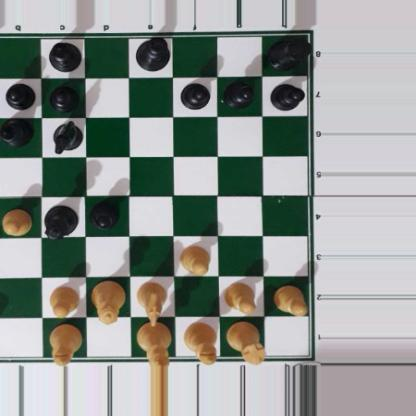black-bishop: (47, 40, 82, 70), (0, 118, 33, 147)
black-king: (136, 35, 171, 72)
black-knight: (51, 120, 81, 152)
black-pawn: (269, 81, 303, 111), (179, 80, 210, 108), (223, 80, 255, 107), (5, 81, 34, 110), (49, 82, 78, 111), (90, 200, 119, 229)
black-queen: (43, 205, 77, 239)
black-rook: (268, 33, 308, 69)
white-bishop: (47, 324, 85, 367), (183, 322, 218, 366)
white-king: (136, 319, 172, 367)
white-knight: (136, 281, 167, 324)
white-pawn: (273, 283, 307, 314), (178, 243, 210, 274), (48, 286, 80, 317), (0, 206, 33, 236)
white-queen: (92, 279, 124, 324)
white-rook: (225, 324, 267, 366)
